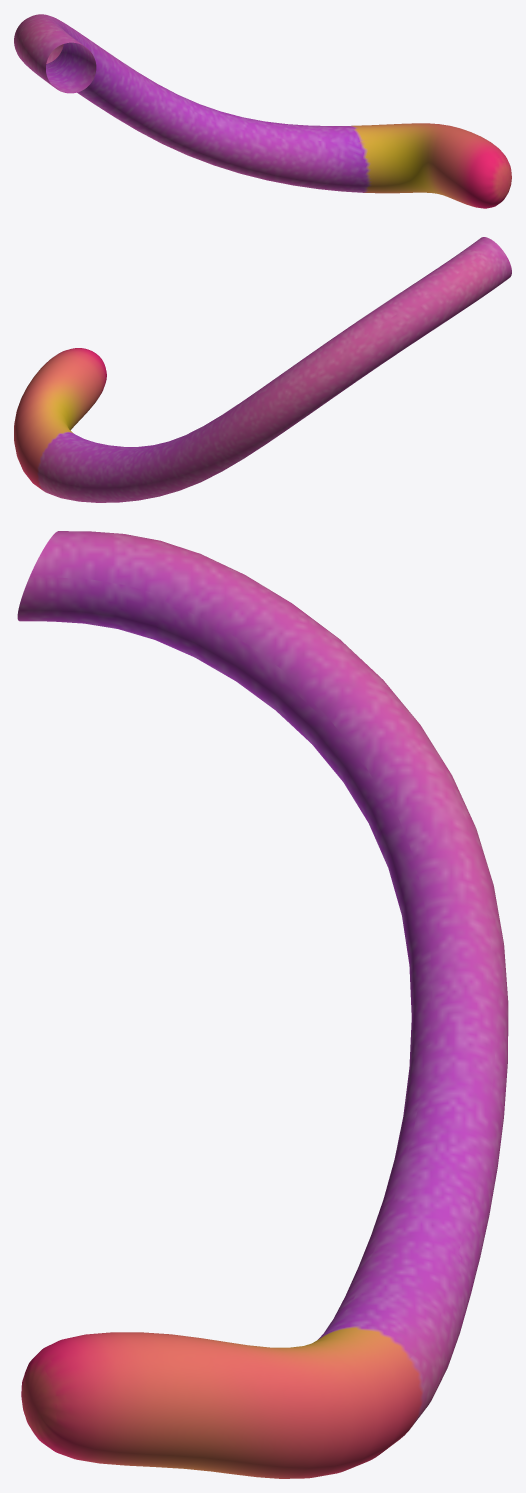
The picture shows the model from 3 angles, top to bottom: view 1: azimuth 30°, elevation 25°; view 2: azimuth 150°, elevation 25°; view 3: azimuth 270°, elevation 25°; orthographic projection. The views are drawn at different scales.
Parts seen in each view (by area): view 1: BezierCurve.018; view 2: BezierCurve.018; view 3: BezierCurve.018.
Part boxes in pixels (<box>): BezierCurve.018: <box>14,14,511,208</box>; BezierCurve.018: <box>14,237,511,502</box>; BezierCurve.018: <box>17,531,508,1478</box>.
Bounding box in the file's own units: 3.08 × 1.85 × 1.44.
1 material, 1 textured.
